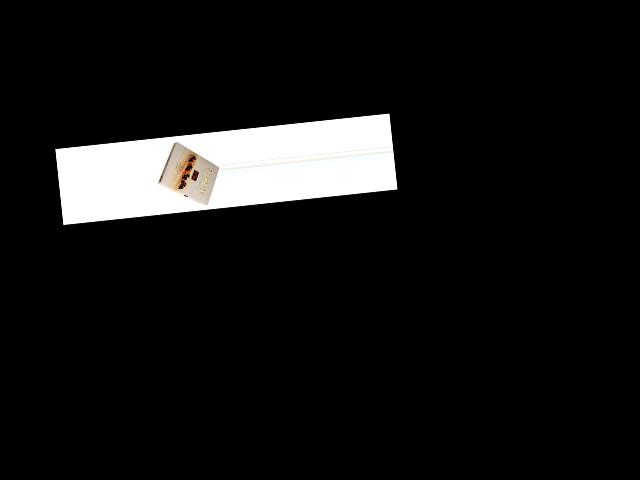chocolate: (152, 132, 221, 209)
